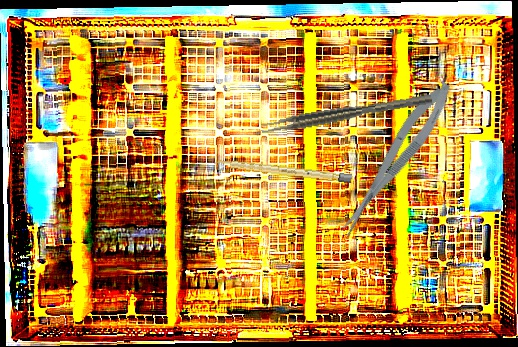Micro Scissor: (329, 76, 461, 242)
Scalpel Handle: (213, 157, 353, 184)
Tissue Forceps: (259, 93, 434, 136)
